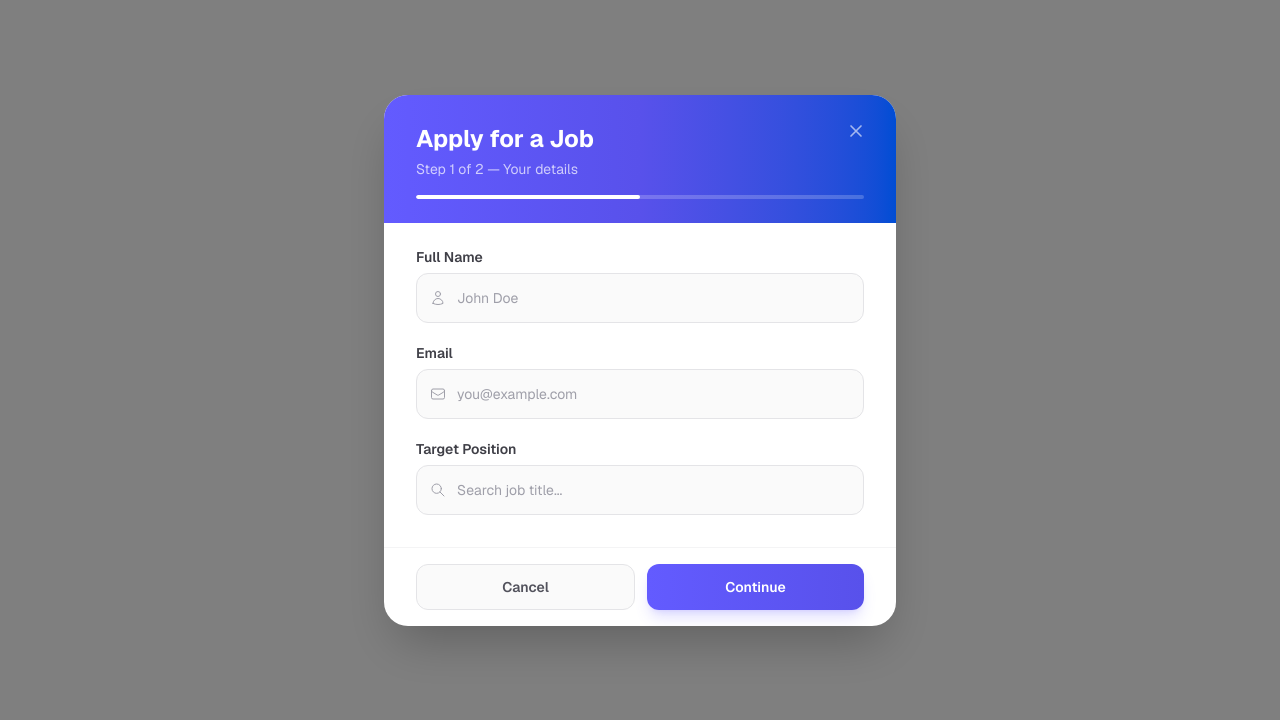
it: ApplyModal › shows invalid email error
The width and height of the screenshot is (1280, 720).
Type "Test User" into the field with placeholder "John Doe" at (640, 298), box [416, 272, 864, 322]
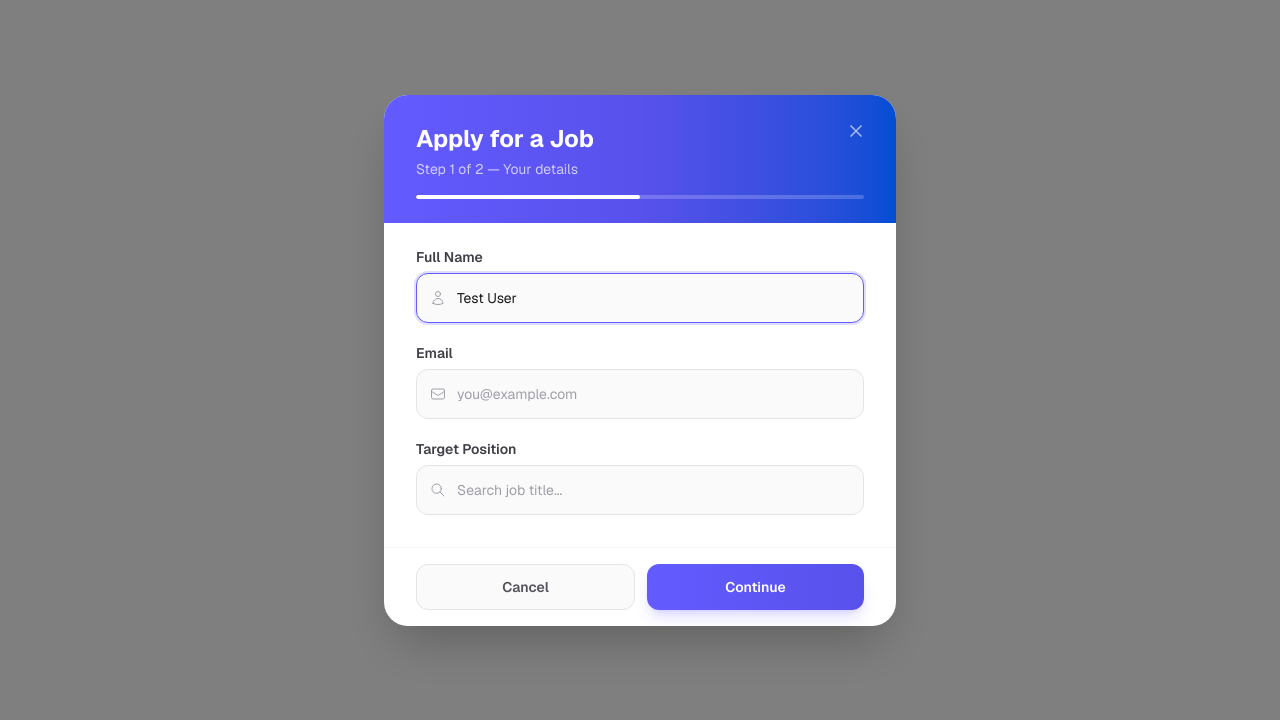
Type "not-an-email" into the field with placeholder "you@example.com" at (640, 394), box [416, 368, 864, 418]
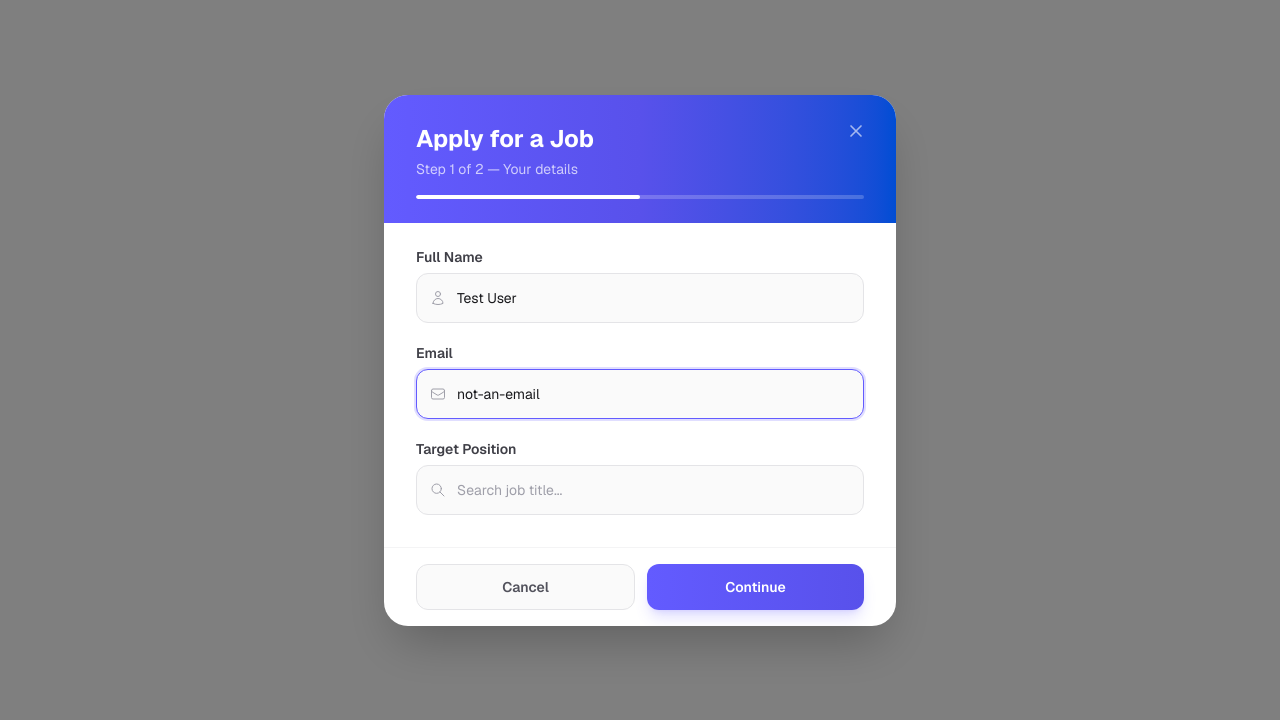
Click the button "Continue" at (756, 586), box [647, 564, 864, 610]
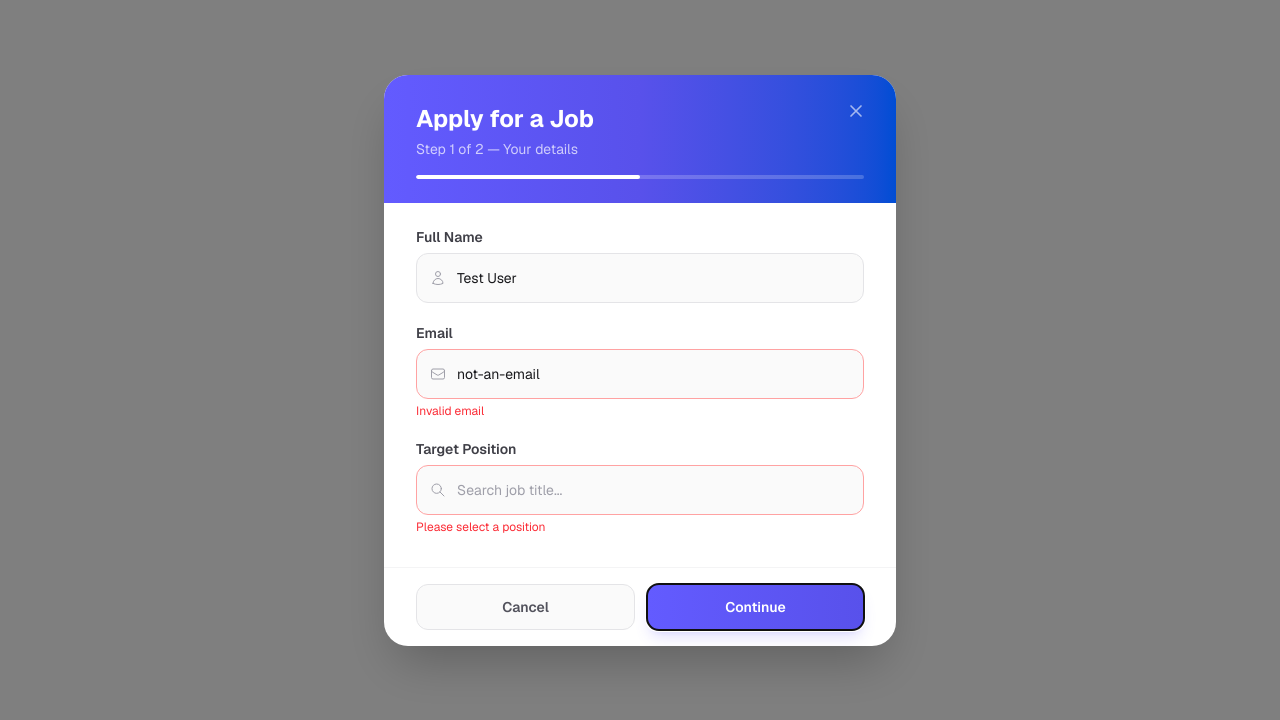
Now the text "Invalid email" is shown, box [416, 402, 484, 418]
